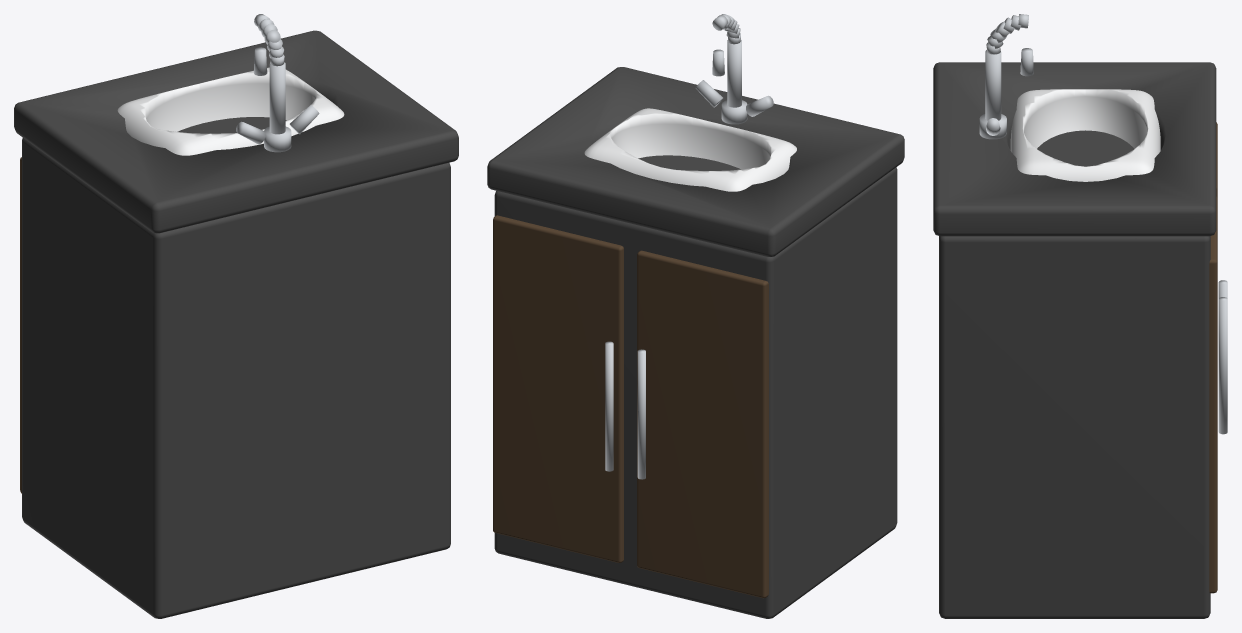
The model's file is basin.glb.
The picture shows the model from 3 angles, left to right: view 1: azimuth 30°, elevation 25°; view 2: azimuth 150°, elevation 25°; view 3: azimuth 270°, elevation 25°; orthographic projection. The views are drawn at different scales.
Visible parts, largest first — view 1: cabinet; view 2: cabinet; view 3: cabinet.
Part boxes in pixels (bbox=[...]): cabinet: bbox=[14, 14, 458, 618]; cabinet: bbox=[487, 14, 904, 618]; cabinet: bbox=[933, 14, 1227, 618].
Bounding box in the file's own units: 0.62 × 1.04 × 0.52.
